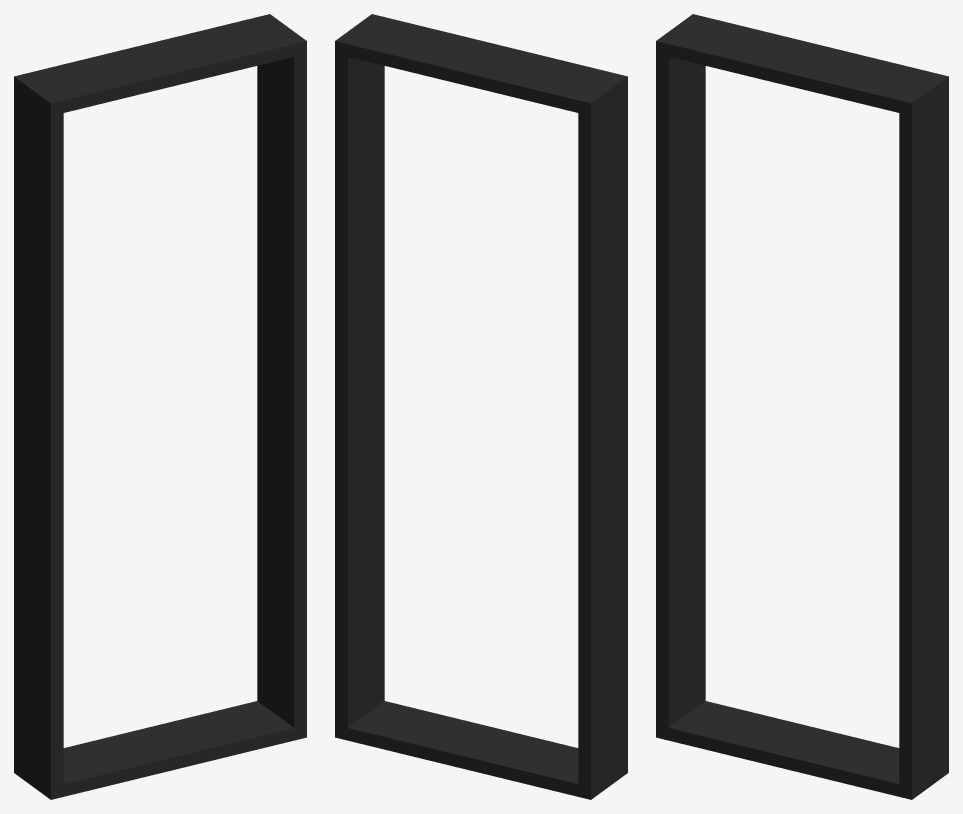
File: window.fbx
The picture shows the model from 3 angles, left to right: view 1: azimuth 30°, elevation 25°; view 2: azimuth 150°, elevation 25°; view 3: azimuth 330°, elevation 25°; orthographic projection.
Visible parts, largest first — view 1: window; view 2: window; view 3: window.
Boxes of the visible parts, x1,y1,x2,y2 form: window: (14, 14, 306, 799); window: (335, 14, 627, 799); window: (656, 14, 948, 799).
Bounding box in the file's own units: 100 × 260 × 25.
